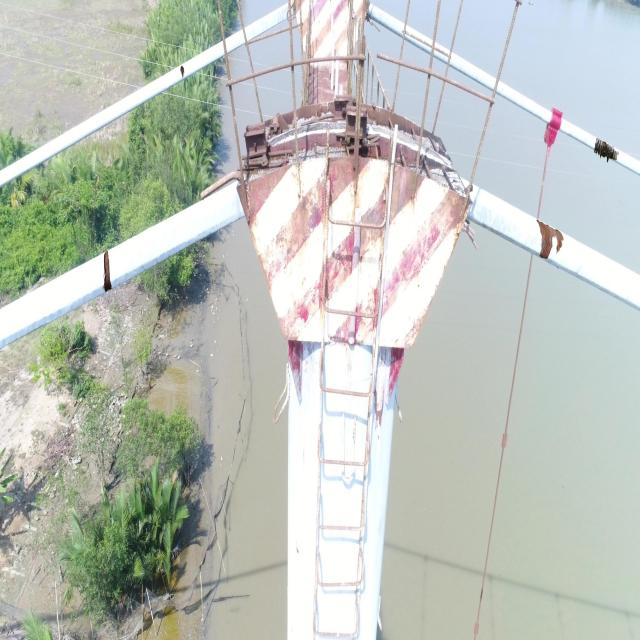corrosion: (535, 219, 563, 259), (593, 137, 619, 162), (103, 249, 112, 293), (179, 64, 185, 79)
